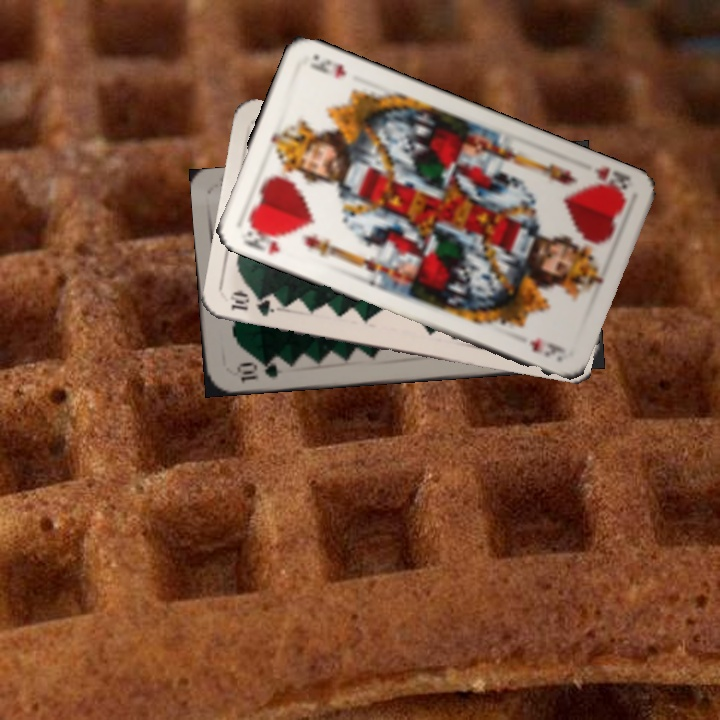G10: (226, 289, 283, 319), (232, 357, 281, 386)
HK: (584, 163, 634, 200), (239, 220, 284, 258)
